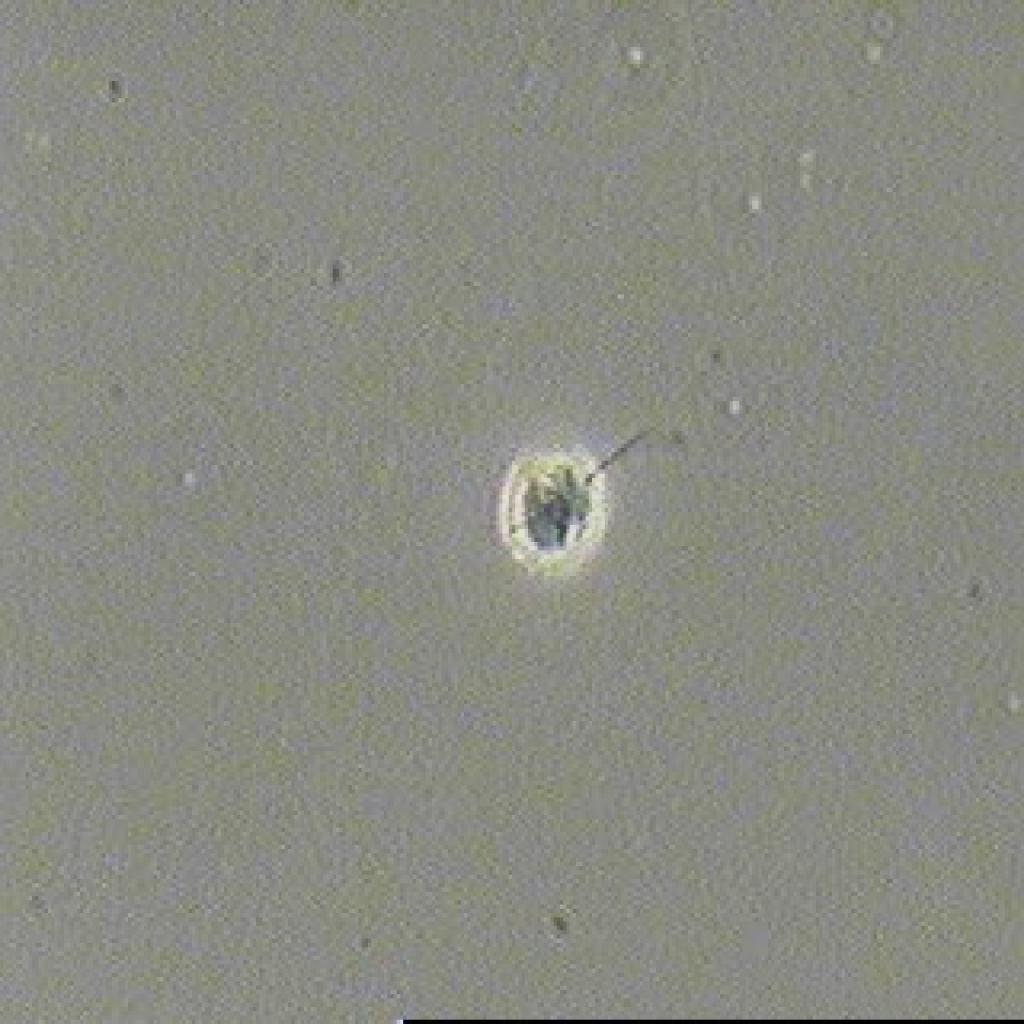Flagellates: (486, 384, 688, 589)
